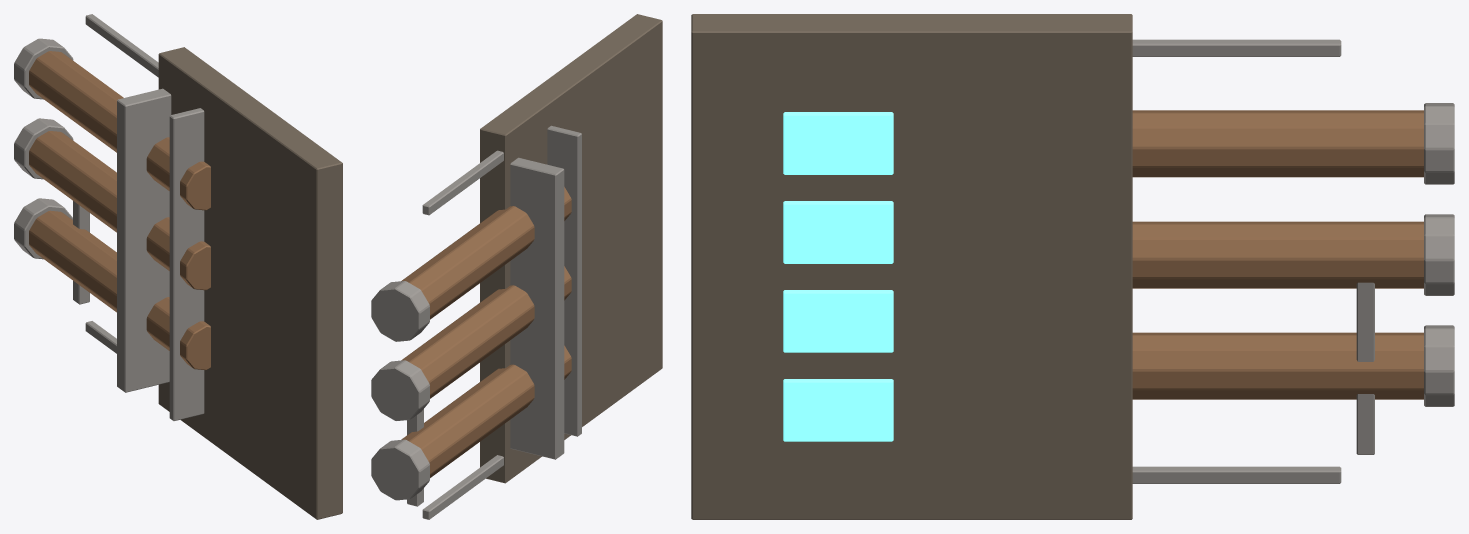
File: facade_stack_l.glb
The picture shows the model from 3 angles, left to right: view 1: azimuth 30°, elevation 25°; view 2: azimuth 150°, elevation 25°; view 3: azimuth 270°, elevation 25°; orthographic projection. The views are drawn at different scales.
Visible parts, largest first — view 1: FacadeStack_L; view 2: FacadeStack_L; view 3: FacadeStack_L.
Boxes of the visible parts, bbox=[...] form: FacadeStack_L: bbox=[14, 14, 342, 519]; FacadeStack_L: bbox=[371, 14, 662, 519]; FacadeStack_L: bbox=[691, 14, 1454, 519].
Size of the model in its own units: 1 by 4.4 by 6.23.
